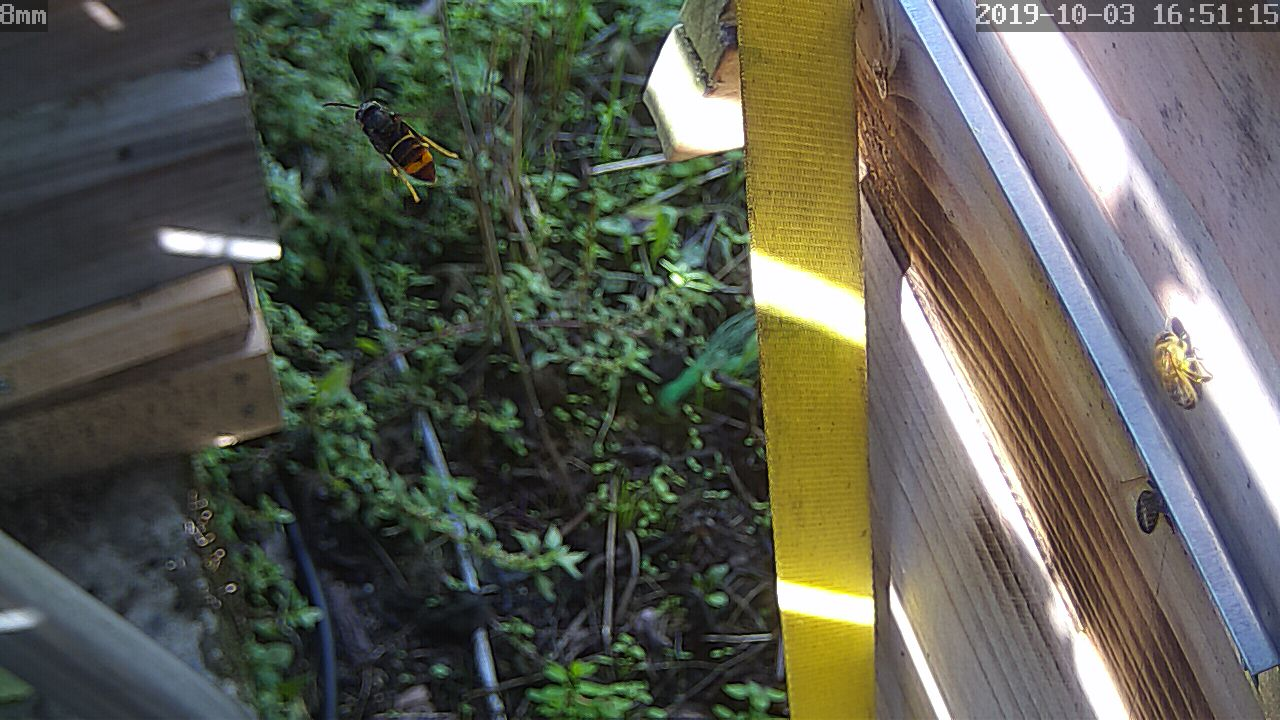bee: (1147, 319, 1211, 404), (1111, 472, 1163, 535)
hornet: (352, 88, 463, 187)
